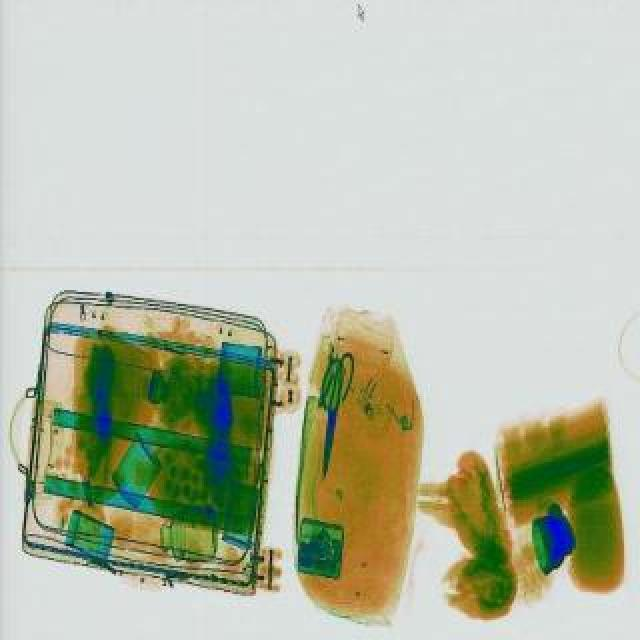pliers: (304, 348, 356, 480)
